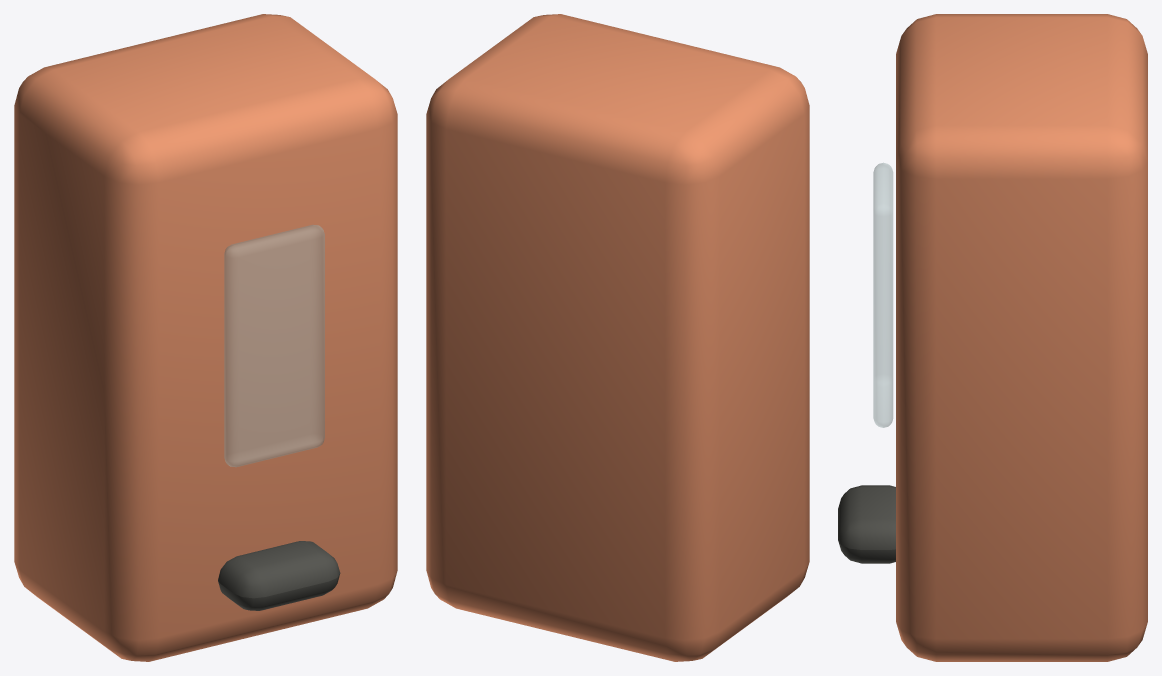
File: soap-dispenser.glb
3 views of the same model, side by side, from view 1: azimuth 30°, elevation 25°; view 2: azimuth 150°, elevation 25°; view 3: azimuth 270°, elevation 25° (orthographic).
Parts seen in each view (by area): view 1: body.011, window.001, nozzle; view 2: body.011; view 3: body.011, window.001, nozzle.
Boxes of the visible parts, x1,y1,x2,y2 form: body.011: (14, 14, 397, 661); window.001: (224, 225, 324, 467); nozzle: (218, 541, 340, 610); body.011: (426, 14, 809, 661); body.011: (896, 14, 1147, 661); window.001: (873, 162, 893, 427); nozzle: (838, 485, 895, 563).
Size of the model in its own units: 0.16 by 0.28 by 0.1476.
